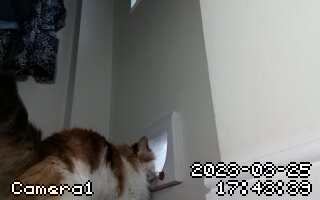clara: (20, 127, 161, 197)
